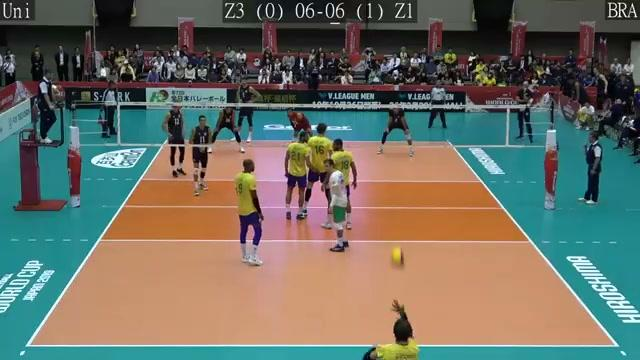ball: (389, 246, 408, 270)
